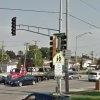Traffic light: (7, 6, 24, 48)
